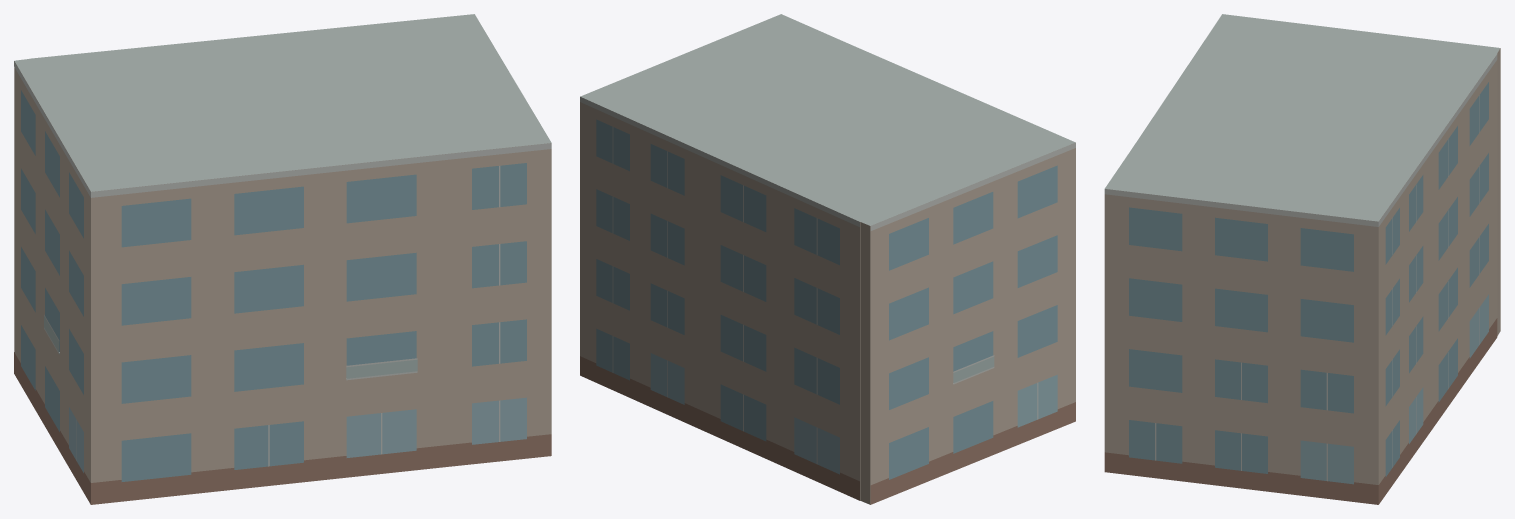
Rendered from survey-upis-32685806.glb.
The picture shows the model from 3 angles, left to right: view 1: azimuth 30°, elevation 25°; view 2: azimuth 150°, elevation 25°; view 3: azimuth 270°, elevation 25°; orthographic projection. The views are drawn at different scales.
Parts seen in each view (by area): view 1: survey-upis-32685806.tmp; view 2: survey-upis-32685806.tmp; view 3: survey-upis-32685806.tmp.
Boxes of the visible parts, x1=… form: survey-upis-32685806.tmp: x1=14, y1=14, x2=551, y2=504; survey-upis-32685806.tmp: x1=580, y1=14, x2=1075, y2=504; survey-upis-32685806.tmp: x1=1104, y1=14, x2=1500, y2=504.
Size of the model in its own units: 19.97 by 12.7 by 16.09.
